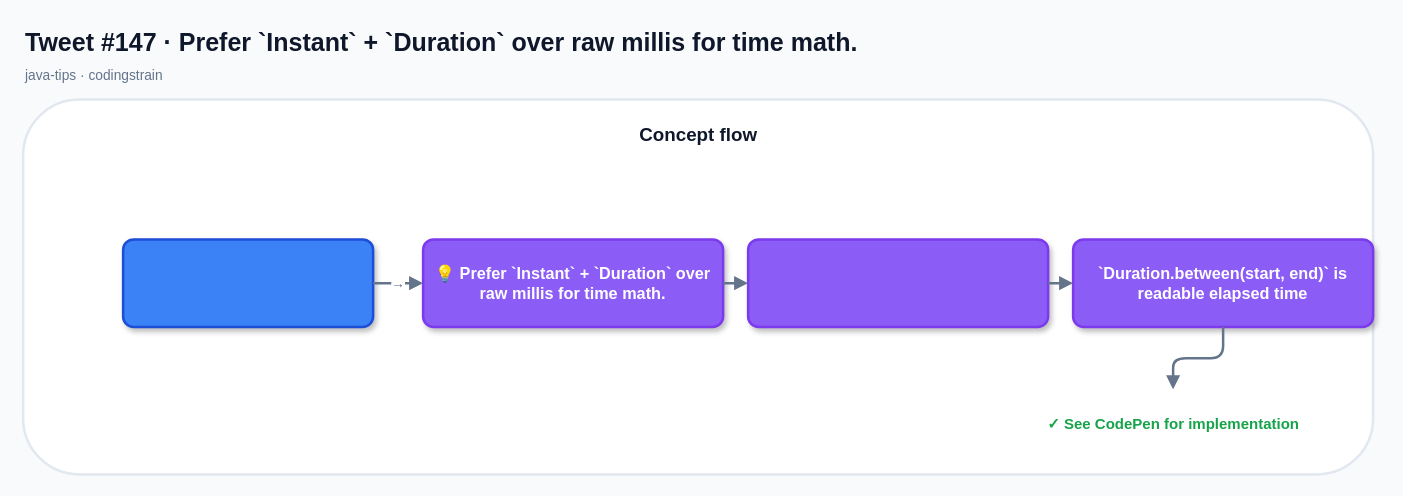
The diagram is 1403 pixels wide and 496 high, and some of its shapes have lost their labels. The shapes that lost their labels are listed below. From the top down, each one's centre as x and y in pixels, then its label:
At (x=248, y=284): "Problem / context".
At (x=898, y=284): "`Instant` is a point on the UTC timeline".
